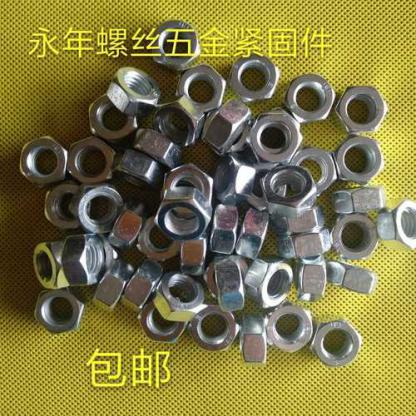FOD: (150, 188, 214, 242), (29, 285, 88, 337), (16, 132, 68, 191), (310, 318, 365, 370), (332, 133, 385, 186), (250, 109, 304, 161), (283, 70, 336, 122), (228, 50, 282, 101), (334, 84, 388, 133), (68, 134, 115, 187), (329, 211, 381, 258), (215, 257, 246, 315), (239, 314, 270, 368)
